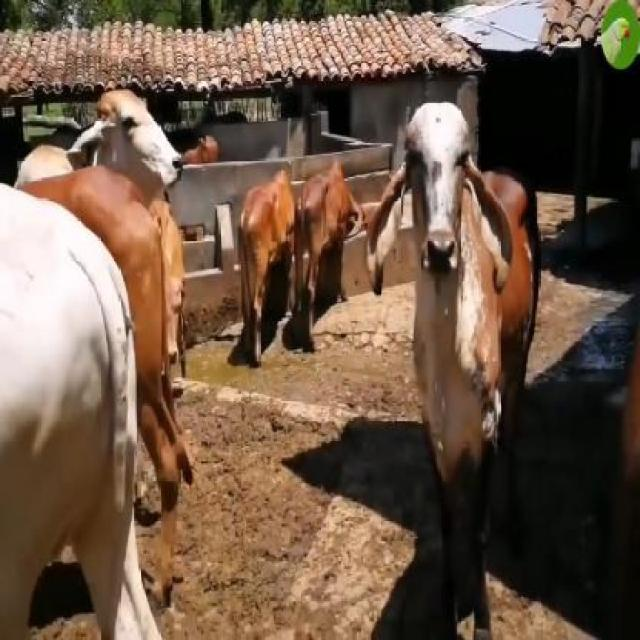Cow: (365, 101, 543, 638)
